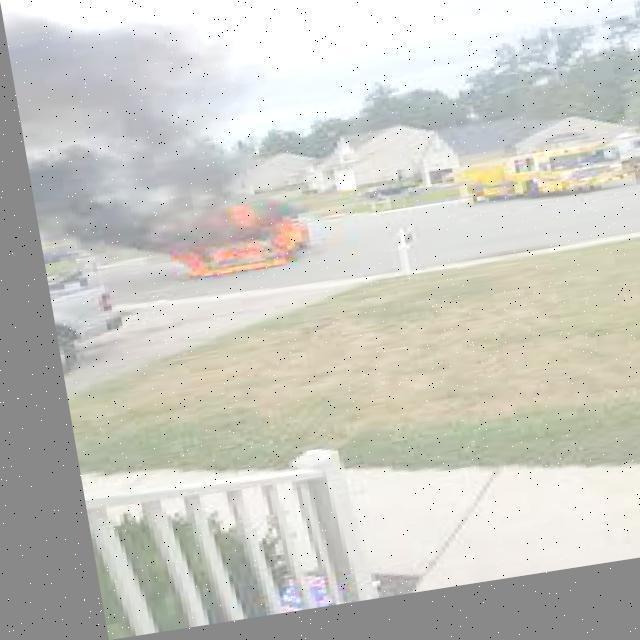Fire: (132, 198, 324, 300)
